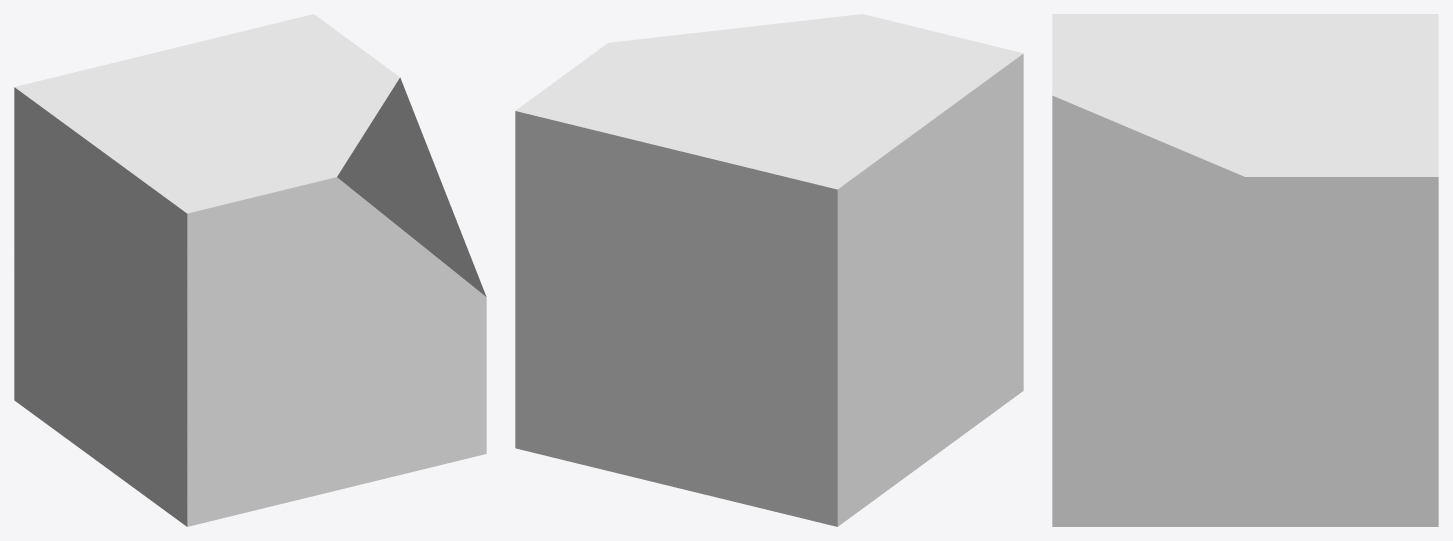
File: r6c6_body_white.gltf
The picture shows the model from 3 angles, left to right: view 1: azimuth 30°, elevation 25°; view 2: azimuth 150°, elevation 25°; view 3: azimuth 270°, elevation 25°; orthographic projection. The views are drawn at different scales.
Parts seen in each view (by area): view 1: r6c6_body_white; view 2: r6c6_body_white; view 3: r6c6_body_white.
Boxes of the visible parts, left/top/right/bottom form: r6c6_body_white: left=14, top=14, right=486, bottom=526; r6c6_body_white: left=515, top=14, right=1023, bottom=526; r6c6_body_white: left=1052, top=14, right=1438, bottom=526.
Size of the model in its own units: 2 by 2 by 2.
1 material, 1 textured.
